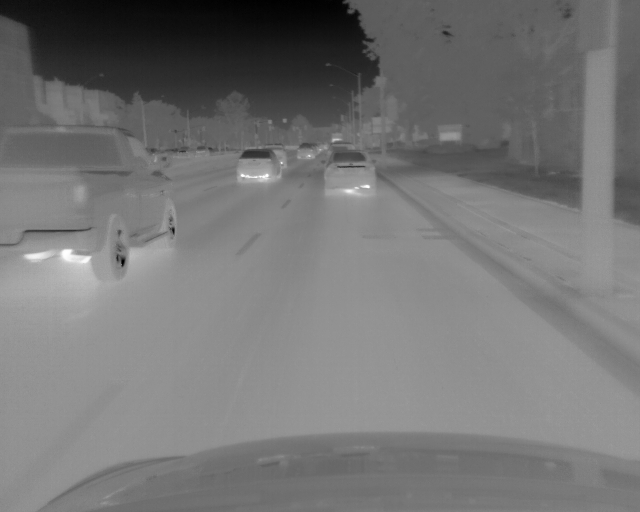car: (1, 128, 179, 282), (322, 150, 376, 196), (235, 148, 283, 183), (265, 144, 289, 171), (294, 143, 316, 160), (325, 143, 355, 155)
